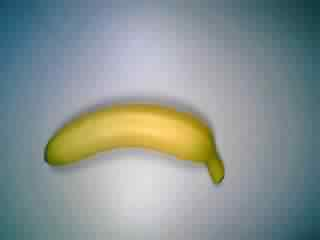banana: (41, 98, 235, 197)
